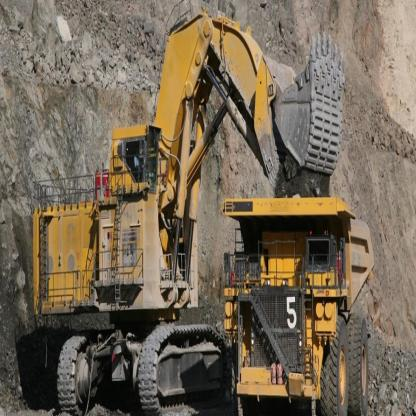dump_truck: (217, 188, 377, 415)
excavator: (21, 9, 342, 411)
